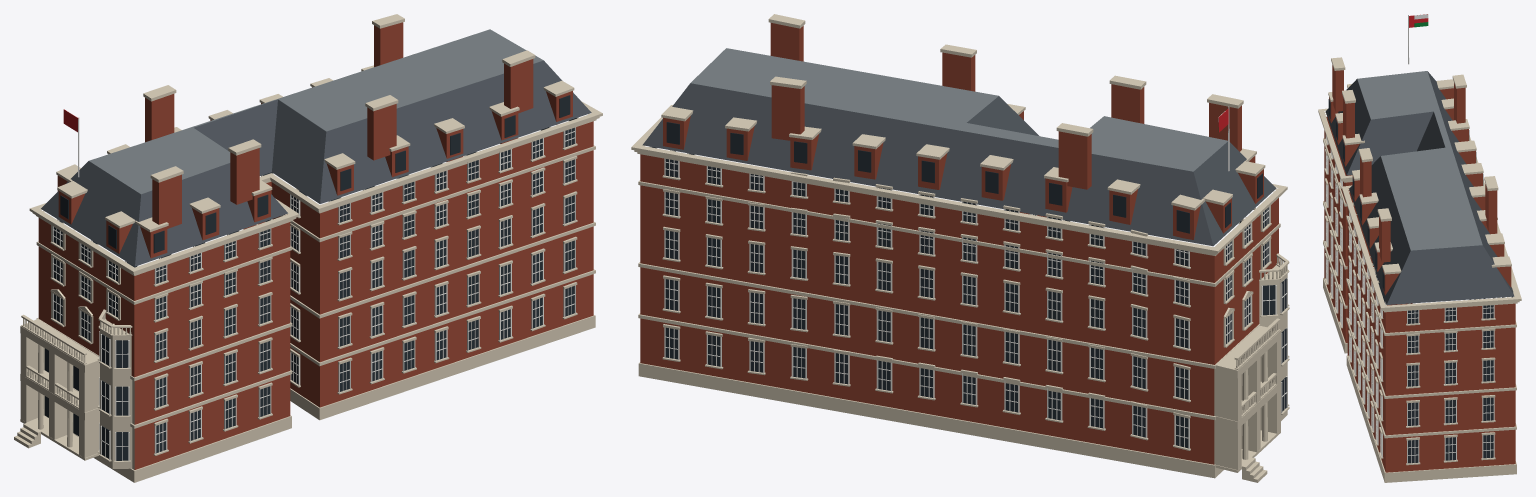
Rendered from embassy_of_oman.glb.
3 renders of one model, left to right at view 1: azimuth 30°, elevation 25°; view 2: azimuth 150°, elevation 25°; view 3: azimuth 270°, elevation 25°, orthographic. The views are drawn at different scales.
Bounding box in the file's own units: 48.58 × 27.58 × 18.77.
